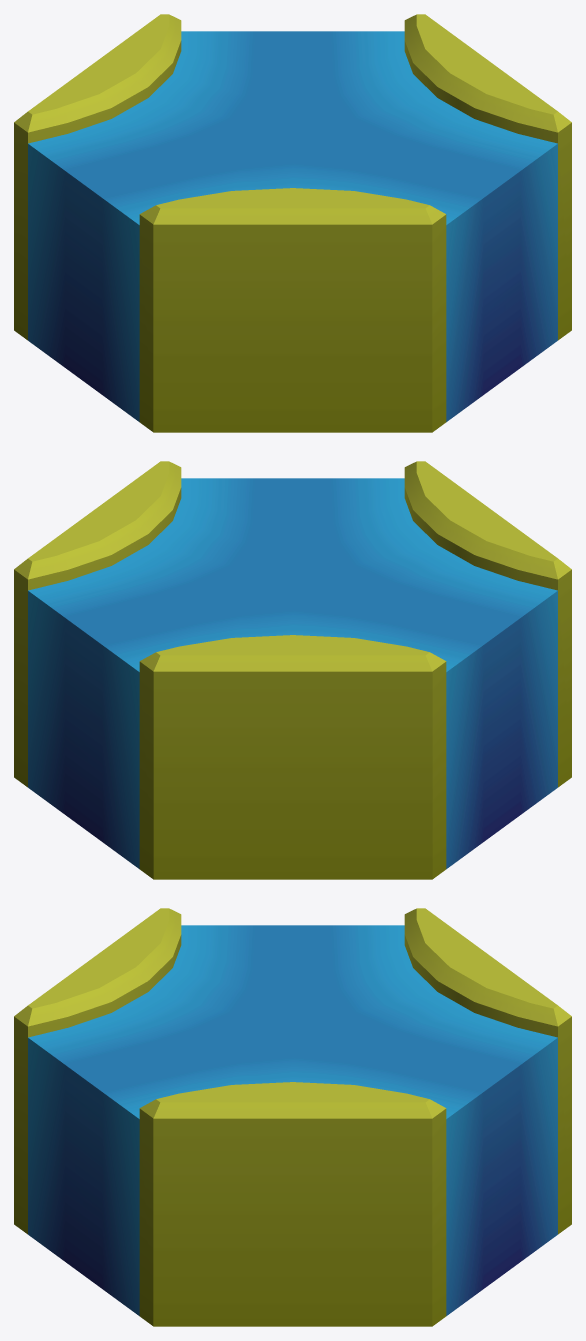
File: kaykit-medieval-hexagon-pack-hex-river-d.glb
3 views of the same model, one above another, from view 1: azimuth 30°, elevation 25°; view 2: azimuth 150°, elevation 25°; view 3: azimuth 270°, elevation 25° (orthographic).
Visible parts, largest first — view 1: hex_river_D; view 2: hex_river_D; view 3: hex_river_D.
Boxes of the visible parts, box(x1,y1,x2,y2) form: hex_river_D: box(14, 14, 571, 432); hex_river_D: box(14, 461, 571, 879); hex_river_D: box(14, 908, 571, 1326).
Bounding box in the file's own units: 2 × 1 × 2.31.
1 material, 1 textured.
